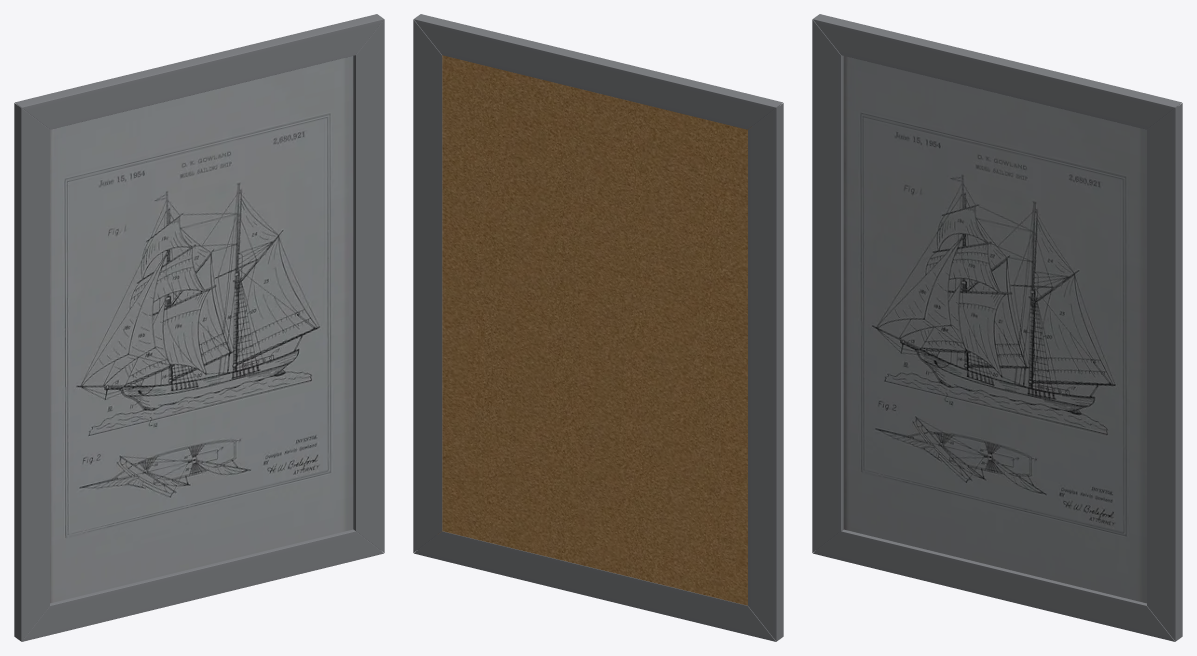
Rendered from abo-B073P1BKT1.glb.
3 renders of one model, left to right at view 1: azimuth 30°, elevation 25°; view 2: azimuth 150°, elevation 25°; view 3: azimuth 330°, elevation 25°, orthographic.
Size of the model in its own units: 0.38 by 0.534 by 0.013.
Materials: 1 (1 with a texture image).
